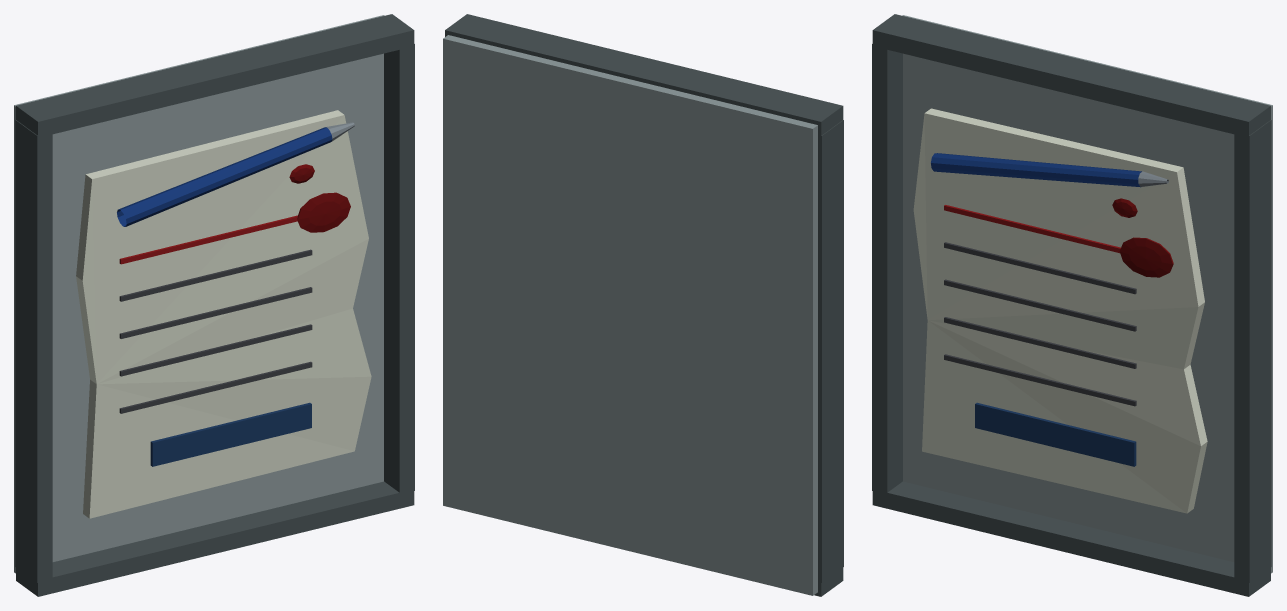
File: hospital_02.obj
The picture shows the model from 3 angles, left to right: view 1: azimuth 30°, elevation 25°; view 2: azimuth 150°, elevation 25°; view 3: azimuth 330°, elevation 25°; orthographic projection.
Visible parts, largest first — view 1: NotePaper, SteelTray, TrayLipL, TrayLipBottom, TrayLipR, TrayLipTop, Header, Pen, BloodDropA, NoteLine1, NoteLine0, NoteLine2 (+2 smaller); view 2: SteelTray, TrayLipL, TrayLipBottom; view 3: NotePaper, SteelTray, TrayLipR, TrayLipBottom, TrayLipL, TrayLipTop, Header, Pen, BloodDropA, NoteLine3, NoteLine1, NoteLine0 (+2 smaller).
Part boxes in pixels (x1,y1,x2,y2): NotePaper: [76, 110, 371, 518]; SteelTray: [14, 15, 384, 573]; TrayLipL: [15, 120, 52, 582]; TrayLipBottom: [16, 14, 414, 137]; TrayLipR: [384, 44, 414, 494]; TrayLipTop: [16, 481, 414, 596]; Header: [150, 402, 311, 466]; Pen: [117, 127, 332, 226]; BloodDropA: [297, 192, 350, 232]; NoteLine1: [119, 324, 312, 376]; NoteLine0: [119, 361, 312, 413]; NoteLine2: [119, 287, 312, 338]; SteelTray: [443, 35, 817, 595]; TrayLipL: [818, 120, 843, 582]; TrayLipBottom: [445, 14, 843, 137]; NotePaper: [913, 108, 1207, 513]; SteelTray: [902, 15, 1272, 573]; TrayLipR: [1234, 120, 1271, 582]; TrayLipBottom: [872, 14, 1270, 137]; TrayLipL: [872, 44, 902, 494]; TrayLipTop: [872, 481, 1270, 596]; Header: [975, 402, 1136, 466]; Pen: [931, 153, 1141, 187]; BloodDropA: [1119, 237, 1173, 277]; NoteLine3: [944, 242, 1136, 294]; NoteLine1: [944, 317, 1136, 368]; NoteLine0: [944, 354, 1136, 406].
Bounding box in the file's own units: 2.96 × 3.56 × 0.5718.
